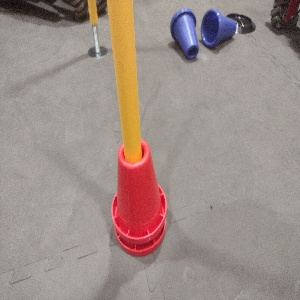Blue_1: (166, 7, 200, 61), (199, 6, 238, 47)
Red_2: (106, 134, 169, 256)
